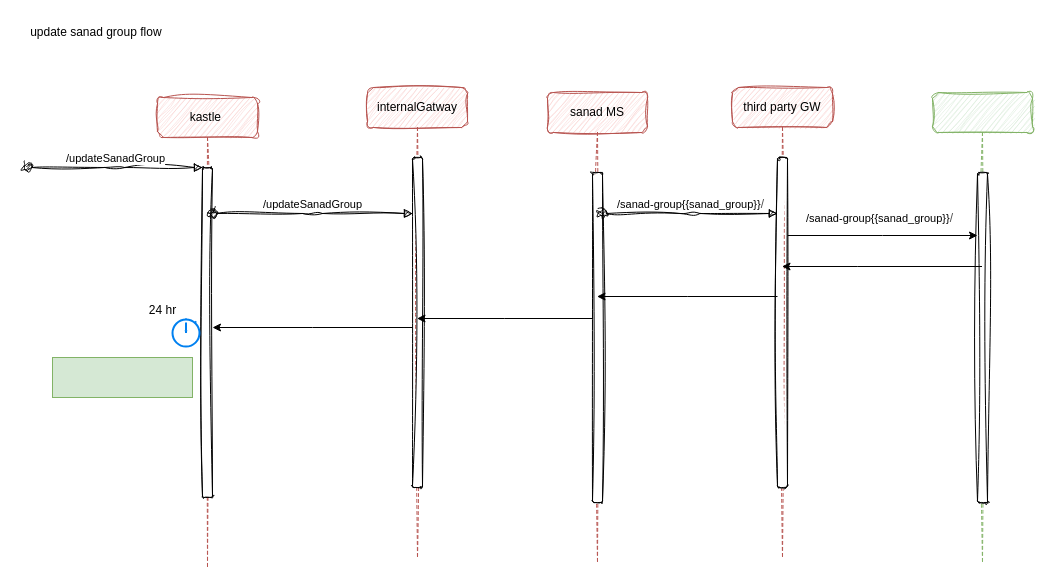
This 1050x585 diagram has some shape labels left out. Each missing label, with the box of its shape:
if 24 h passed return to offer stage: (52, 356, 192, 398)
nafiz: (932, 92, 1032, 562)
